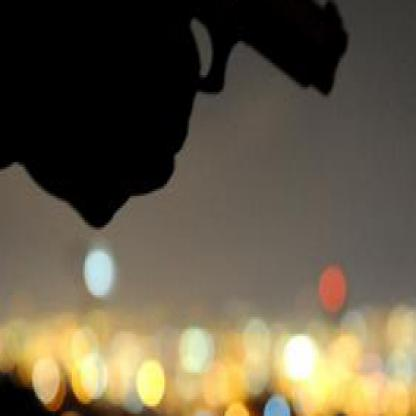gun: (53, 0, 357, 259)
